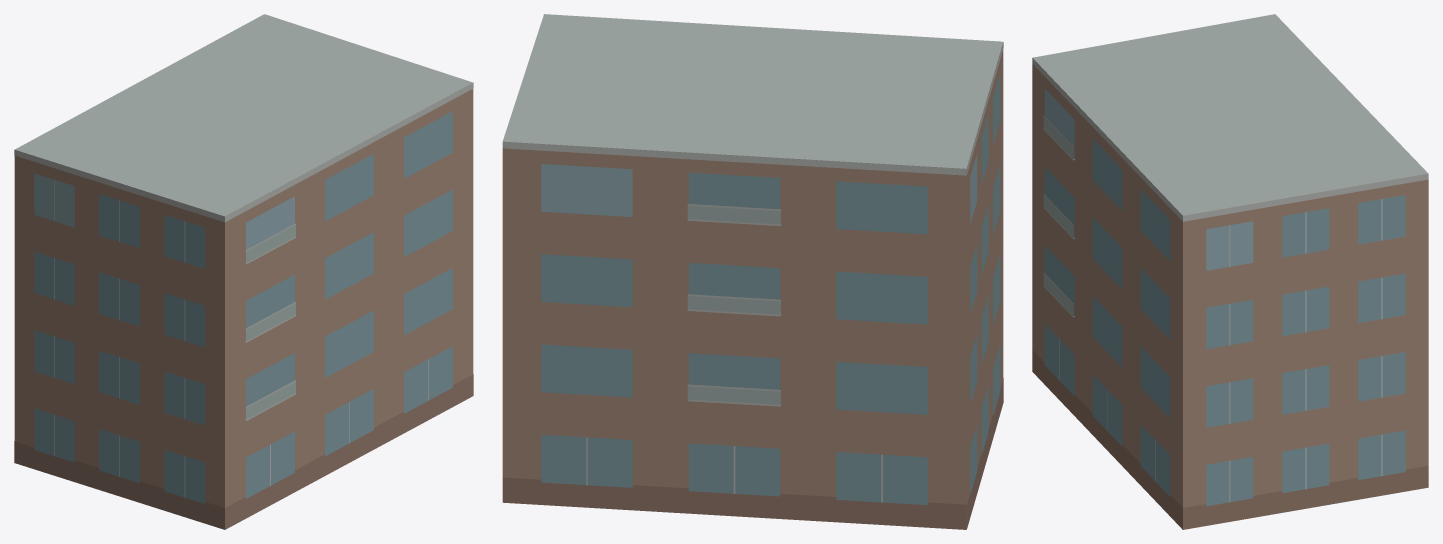
Rendered from survey-upis-32889233.glb.
The picture shows the model from 3 angles, left to right: view 1: azimuth 30°, elevation 25°; view 2: azimuth 150°, elevation 25°; view 3: azimuth 270°, elevation 25°; orthographic projection. The views are drawn at different scales.
Parts seen in each view (by area): view 1: survey-upis-32889233.tmp; view 2: survey-upis-32889233.tmp; view 3: survey-upis-32889233.tmp.
Part boxes in pixels (x1,y1,x2,y2): survey-upis-32889233.tmp: (14, 14, 473, 529); survey-upis-32889233.tmp: (502, 14, 1003, 529); survey-upis-32889233.tmp: (1032, 14, 1428, 529).
Bounding box in the file's own units: 17.93 × 13 × 14.87.
